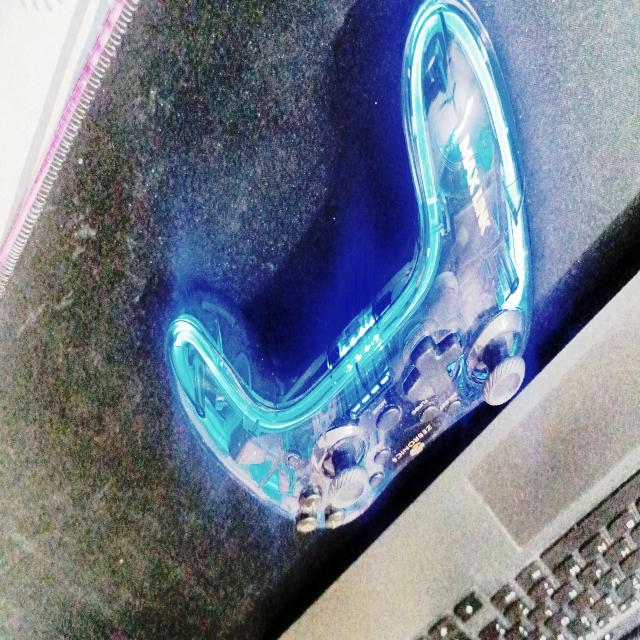gamepad: (163, 0, 536, 536)
